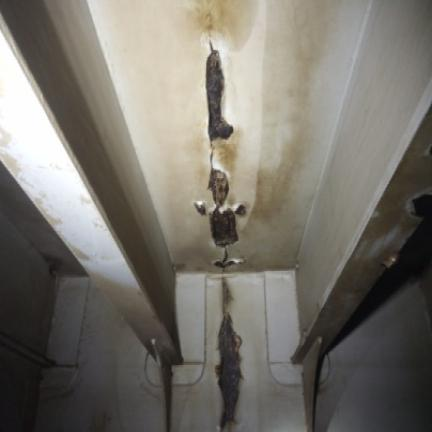karat: (206, 43, 245, 429), (206, 45, 234, 142)
